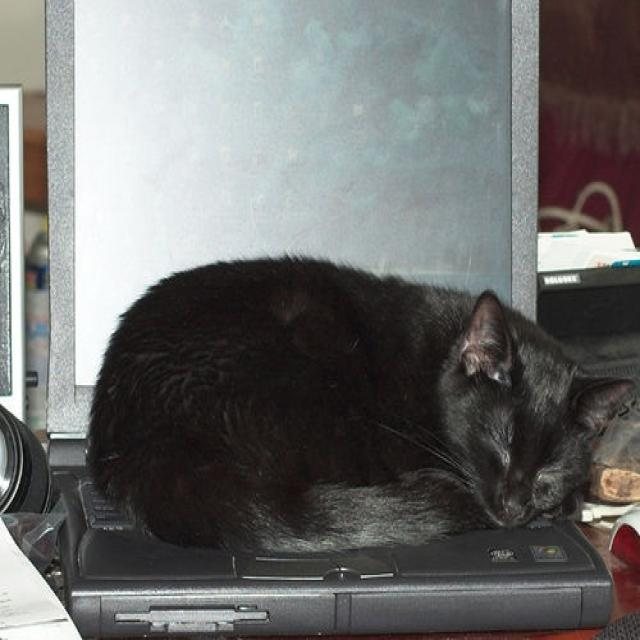cat: (86, 262, 635, 556)
